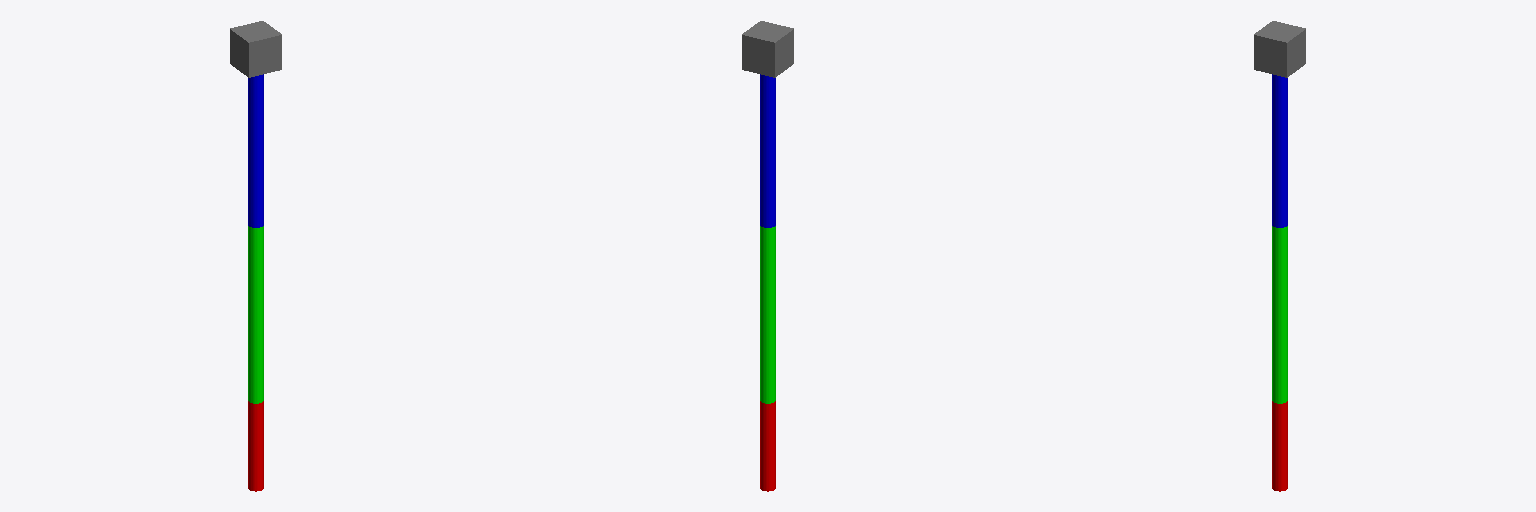
robot.urdf — three_link_arm:
<?xml version="1.0"?>
<robot name="three_link_arm">
  <!-- Link 1 -->
  <link name="link1">
    <inertial>
      <mass value="0.5"/>
      <origin xyz="0 0 -0.25" rpy="0 0 0"/>
      <inertia ixx="0.00083" ixy="0" ixz="0" iyy="0.00083" iyz="0" izz="0.00001"/>
    </inertial>
    <visual>
      <origin xyz="0 0 -0.25" rpy="0 0 0"/>
      <geometry>
        <cylinder length="0.5" radius="0.02"/>
      </geometry>
      <material name="blue">
        <color rgba="0 0 1 1"/>
      </material>
    </visual>
    <collision>
      <origin xyz="0 0 -0.25" rpy="0 0 0"/>
      <geometry>
        <cylinder length="0.5" radius="0.02"/>
      </geometry>
    </collision>
  </link>

  <!-- Link 2 -->
  <link name="link2">
    <inertial>
      <mass value="0.5"/>
      <origin xyz="0 0 -0.25" rpy="0 0 0"/>
      <inertia ixx="0.00083" ixy="0" ixz="0" iyy="0.00083" iyz="0" izz="0.00001"/>
    </inertial>
    <visual>
      <origin xyz="0 0 -0.25" rpy="0 0 0"/>
      <geometry>
        <cylinder length="0.5" radius="0.02"/>
      </geometry>
      <material name="green">
        <color rgba="0 1 0 1"/>
      </material>
    </visual>
    <collision>
      <origin xyz="0 0 -0.25" rpy="0 0 0"/>
      <geometry>
        <cylinder length="0.5" radius="0.02"/>
      </geometry>
    </collision>
  </link>

  <!-- Link 3 -->
  <link name="link3">
    <inertial>
      <mass value="0.25"/>
      <origin xyz="0 0 -0.125" rpy="0 0 0"/>
      <inertia ixx="0.00010" ixy="0" ixz="0" iyy="0.00010" iyz="0" izz="0.000005"/>
    </inertial>
    <visual>
      <origin xyz="0 0 -0.125" rpy="0 0 0"/>
      <geometry>
        <cylinder length="0.25" radius="0.02"/>
      </geometry>
      <material name="red">
        <color rgba="1 0 0 1"/>
      </material>
    </visual>
    <collision>
      <origin xyz="0 0 -0.125" rpy="0 0 0"/>
      <geometry>
        <cylinder length="0.25" radius="0.02"/>
      </geometry>
    </collision>
  </link>

  <!-- Joint 1 -->
  <joint name="joint1" type="revolute">
    <parent link="base_link"/>
    <child link="link1"/>
    <origin xyz="0 0 0" rpy="0 0 0"/>
    <axis xyz="0 1 0"/>
    <limit effort="10" velocity="2" lower="-3.1416" upper="3.1416"/>
  </joint>

  <!-- Joint 2 -->
  <joint name="joint2" type="revolute">
    <parent link="link1"/>
    <child link="link2"/>
    <origin xyz="0 0 -0.5" rpy="0 0 0"/>
    <axis xyz="1 0 0"/>
    <limit effort="10" velocity="2" lower="-3.1416" upper="3.1416"/>
  </joint>

  <!-- Joint 3 -->
  <joint name="joint3" type="revolute">
    <parent link="link2"/>
    <child link="link3"/>
    <origin xyz="0 0 -0.5" rpy="0 0 0"/>
    <axis xyz="1 0 0"/>
    <limit effort="5" velocity="2" lower="-3.1416" upper="3.1416"/>
  </joint>

  <!-- Base Link -->
  <link name="base_link">
    <visual>
      <origin xyz="0 0 0" rpy="0 0 0"/>
      <geometry>
        <box size="0.1 0.1 0.1"/>
      </geometry>
      <material name="grey">
        <color rgba="0.5 0.5 0.5 1"/>
      </material>
    </visual>
    <collision>
      <origin xyz="0 0 0" rpy="0 0 0"/>
      <geometry>
        <box size="0.1 0.1 0.1"/>
      </geometry>
    </collision>
  </link>
</robot>

--- Render facts (derived) ---
The picture shows the robot from 3 angles, left to right: view 1: azimuth 30°, elevation 25°; view 2: azimuth 150°, elevation 25°; view 3: azimuth 330°, elevation 25°; orthographic projection.
Model three_link_arm with 4 links and 3 joints (3 revolute), rooted at base_link, posed all joints at 0.
Links seen in each view (by area): view 1: link2, base_link, link1, link3; view 2: link2, base_link, link1, link3; view 3: link2, base_link, link1, link3.
Boxes of the visible links, x1,y1,x2,y2 form: link2: (248,226,263,403); base_link: (230,21,281,77); link1: (248,74,263,227); link3: (248,401,263,491); link2: (760,226,775,403); base_link: (742,21,793,77); link1: (760,74,775,227); link3: (760,401,775,491); link2: (1272,226,1287,403); base_link: (1254,21,1305,77); link1: (1272,74,1287,227); link3: (1272,401,1287,491).
Bounding box of the posed robot: 0.1 × 0.1 × 1.3 m (x, y, z).
Geometry: primitives only (box / cylinder / sphere), no mesh files.
